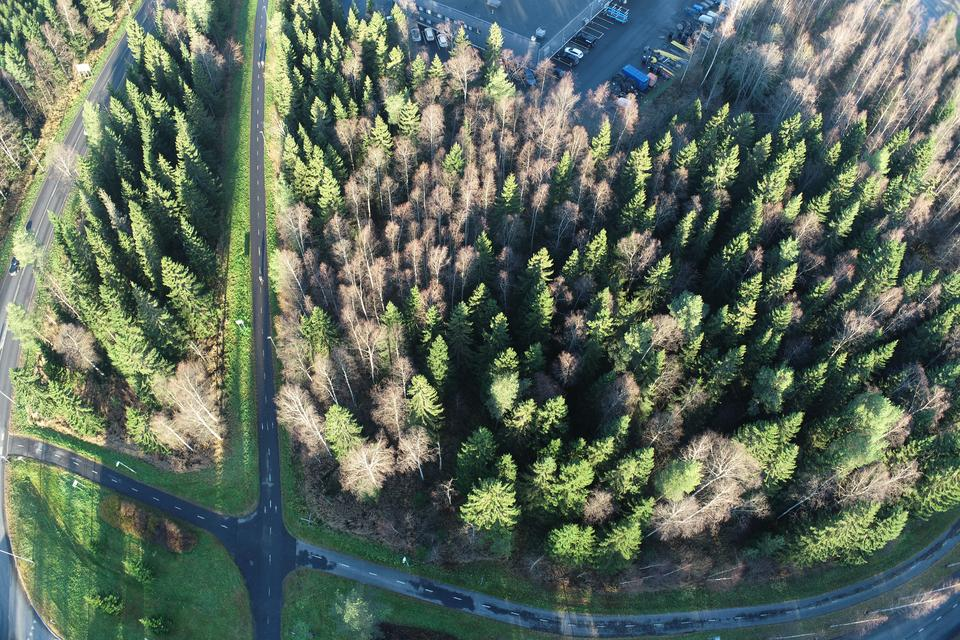intersection: (0, 402, 69, 486)
